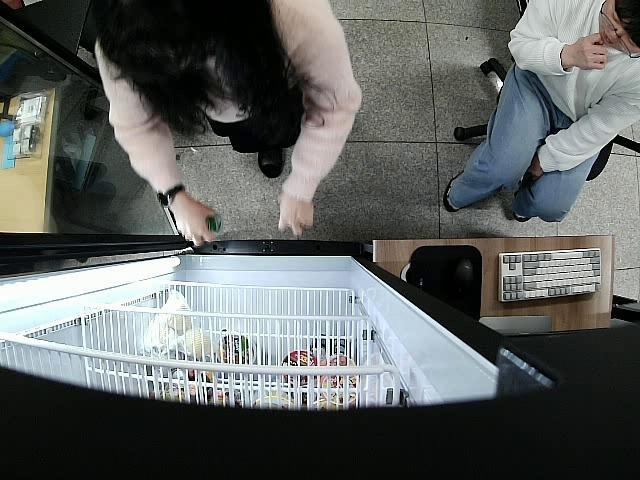12_chilsungCider: (202, 215, 222, 233)
